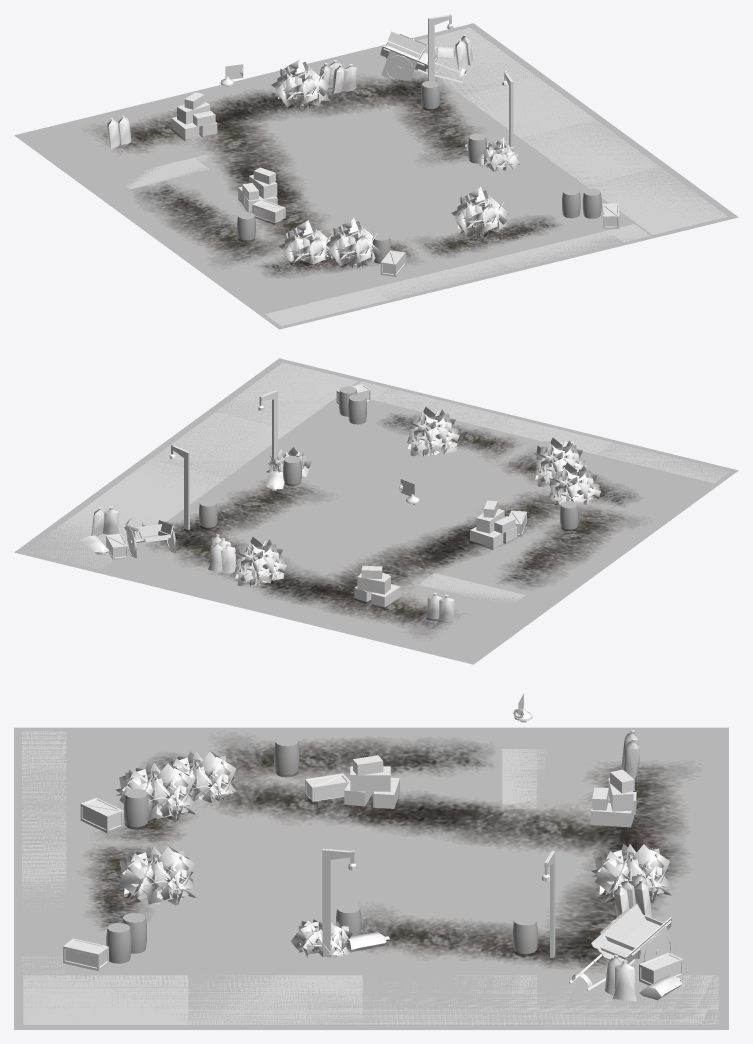
File: propsonly_brew-single.gltf
3 views of the same model, one above another, from view 1: azimuth 30°, elevation 25°; view 2: azimuth 150°, elevation 25°; view 3: azimuth 270°, elevation 25° (orthographic). The views are drawn at different scales.
Parts seen in each view (by area): view 1: FeedbackBlocker.006, file_b2_ground3.001, file_b2_ground3.007, file_b2_ground3.005, file_b2_ground1.006, file_b2_ground1.001, file_b2_ground1.002, file_b2_ground3.006, file_b2_ground1.003, FeedbackBlocker.012, file_b2_ground1.015, file_b2_ground1.005 (+30 smaller); view 2: FeedbackBlocker.006, file_b2_ground1.006, file_b2_ground1.005, file_b2_ground3.007, file_b2_ground3.001, file_b2_ground3.006, file_b2_ground1.002, file_b2_ground1.015, file_b2_ground3.005, file_b2_ground1.001, file_b2_ground1.003, file_b2_ground3.002 (+29 smaller); view 3: FeedbackBlocker.006, file_b2_ground1.001, file_b2_ground1.016, file_b2_ground3.007, file_b2_ground1.005, file_b2_ground3.003, file_b2_ground2.001, file_b2_ground3.006, file_b2_ground3.001, file_b2_ground1.006, file_b2_ground3.005, file_b2_ground1.003 (+38 smaller).
Boxes of the visible parts, x1,y1,x2,y2 form: FeedbackBlocker.006: [417, 28, 727, 234]; file_b2_ground3.001: [303, 101, 488, 179]; file_b2_ground3.007: [14, 108, 192, 182]; file_b2_ground3.005: [126, 78, 308, 159]; file_b2_ground1.006: [79, 155, 243, 234]; file_b2_ground1.001: [278, 175, 449, 240]; file_b2_ground1.002: [368, 151, 561, 224]; file_b2_ground3.006: [208, 258, 401, 329]; file_b2_ground1.003: [439, 200, 625, 274]; FeedbackBlocker.012: [265, 224, 650, 325]; file_b2_ground1.015: [144, 205, 299, 280]; file_b2_ground1.005: [194, 128, 367, 196]; FeedbackBlocker.006: [27, 362, 357, 568]; file_b2_ground1.006: [415, 542, 608, 617]; file_b2_ground1.005: [303, 508, 478, 583]; file_b2_ground3.007: [351, 589, 541, 664]; file_b2_ground3.001: [191, 483, 373, 555]; file_b2_ground3.006: [545, 440, 738, 517]; file_b2_ground1.002: [284, 433, 449, 510]; file_b2_ground1.015: [503, 499, 673, 569]; file_b2_ground3.005: [238, 562, 425, 636]; file_b2_ground1.001: [385, 460, 550, 536]; file_b2_ground1.003: [321, 386, 514, 467]; file_b2_ground3.002: [126, 533, 319, 609]; FeedbackBlocker.006: [23, 975, 718, 1024]; file_b2_ground1.001: [188, 801, 380, 882]; file_b2_ground1.016: [362, 948, 554, 1029]; file_b2_ground3.007: [537, 727, 728, 808]; file_b2_ground1.005: [362, 801, 554, 882]; file_b2_ground3.003: [188, 948, 380, 1029]; file_b2_ground2.001: [537, 948, 728, 1029]; file_b2_ground3.006: [14, 727, 205, 808]; file_b2_ground3.001: [362, 875, 549, 955]; file_b2_ground1.006: [362, 727, 554, 808]; file_b2_ground3.005: [537, 801, 728, 882]; file_b2_ground1.003: [14, 875, 205, 955].
Size of what is drawn, in the model's own units: 4.1 by 0.9485 by 4.16.
